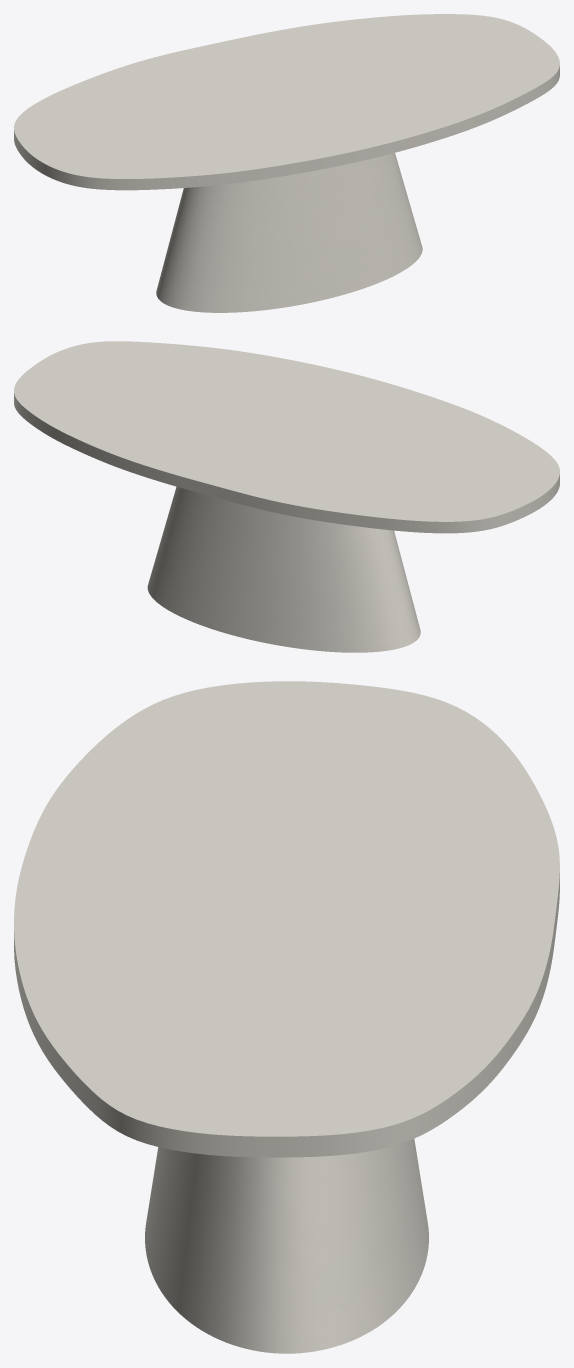
File: pale_danish_standard_eqone.glb
The picture shows the model from 3 angles, top to bottom: view 1: azimuth 30°, elevation 25°; view 2: azimuth 150°, elevation 25°; view 3: azimuth 270°, elevation 25°; orthographic projection. The views are drawn at different scales.
Visible parts, largest first — view 1: standard_danish, eqone; view 2: standard_danish, eqone; view 3: standard_danish, eqone.
Part boxes in pixels (bbox=[...]): standard_danish: bbox=[14, 14, 559, 190]; eqone: bbox=[156, 153, 422, 312]; standard_danish: bbox=[14, 341, 559, 533]; eqone: bbox=[147, 486, 420, 652]; standard_danish: bbox=[14, 681, 559, 1157]; eqone: bbox=[145, 1139, 428, 1353].
Bounding box in the file's own units: 7.5 × 2.5 × 3.8.
Materials: 1 (1 with a texture image).
